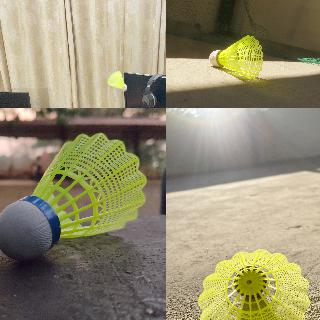shuttlecock: (0, 134, 147, 254), (197, 249, 309, 319), (209, 35, 263, 79), (108, 71, 126, 91)
